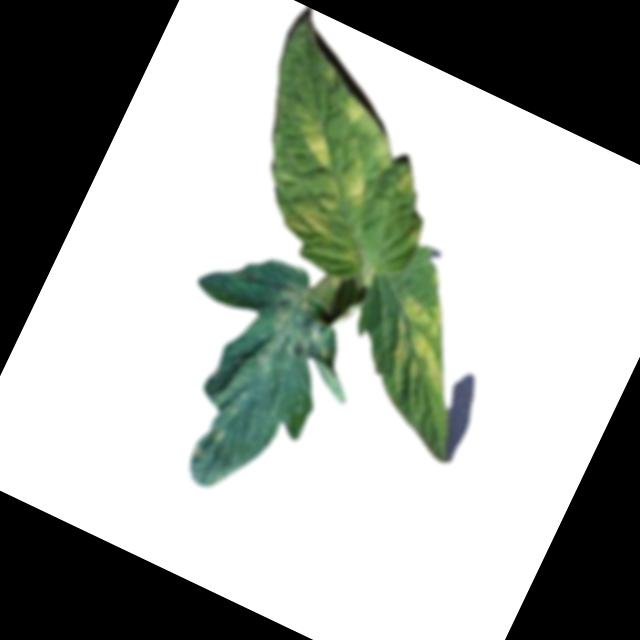Leaf_Mold: (239, 273, 348, 391), (369, 288, 473, 393), (280, 184, 341, 246), (281, 110, 344, 169), (336, 161, 378, 207), (384, 161, 425, 202), (332, 90, 370, 130)
